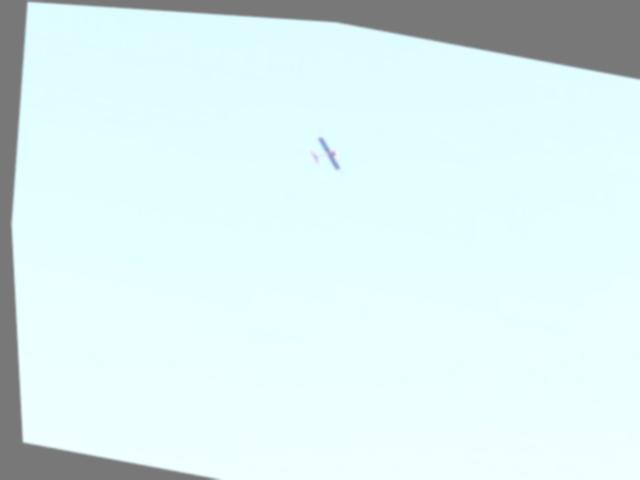uav: (304, 129, 344, 173)
